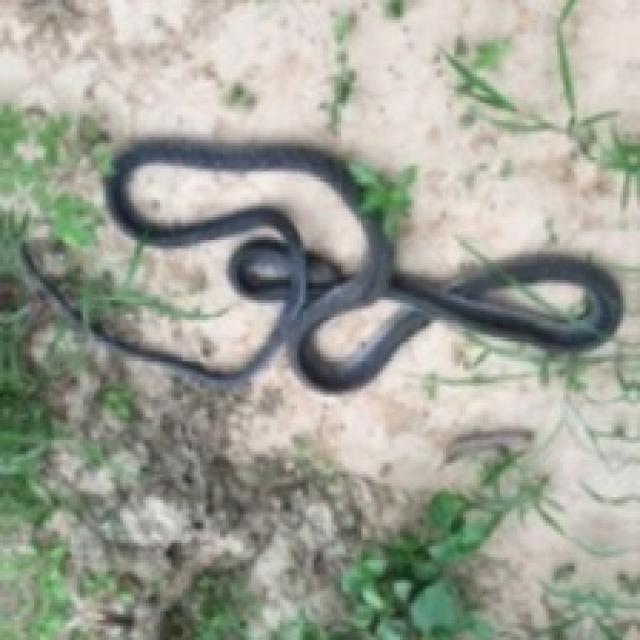king cobra: (23, 137, 620, 389), (131, 163, 363, 271)
